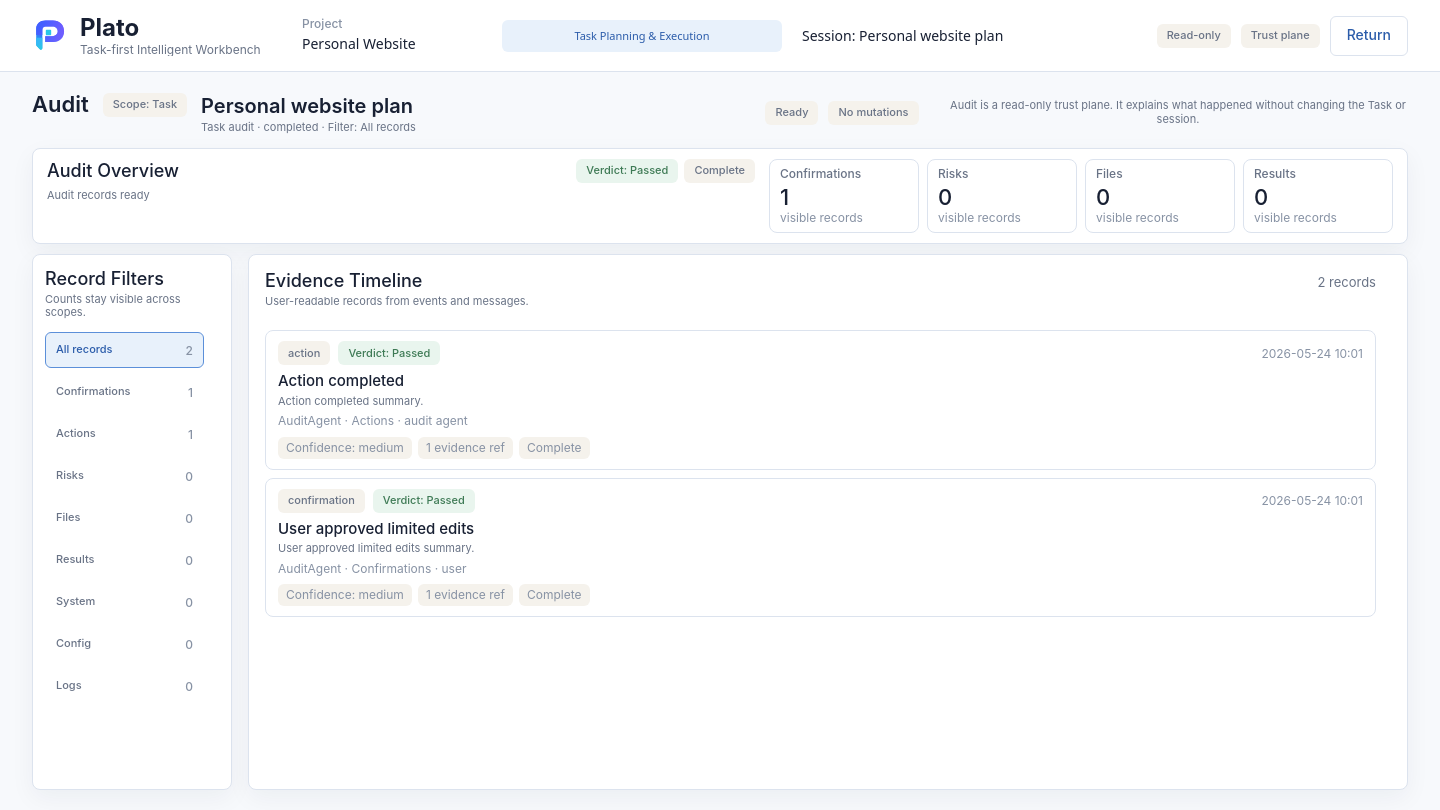
Test: AuditPageRoute › clicking a record opens detail state, loads fallback detail, and updates the route query
Click the button with aria-label "Audit record Action completed" at {"x": 820, "y": 400}, box [265,330,1376,470]
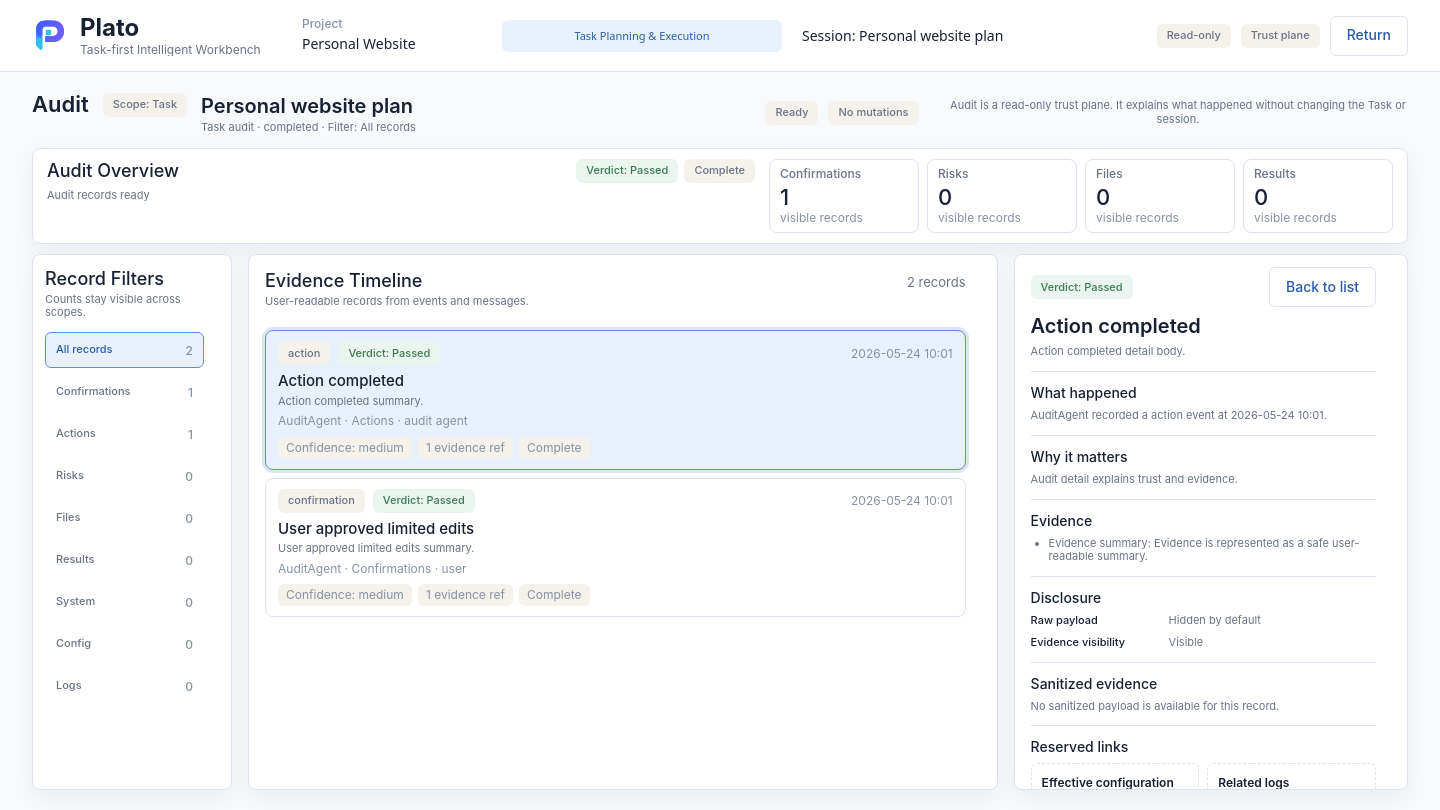
Check: the element named "Audit record detail" is shown, box [1014,254,1408,790]
Check: the text "Action completed detail body." is shown, box [1031,344,1185,358]
